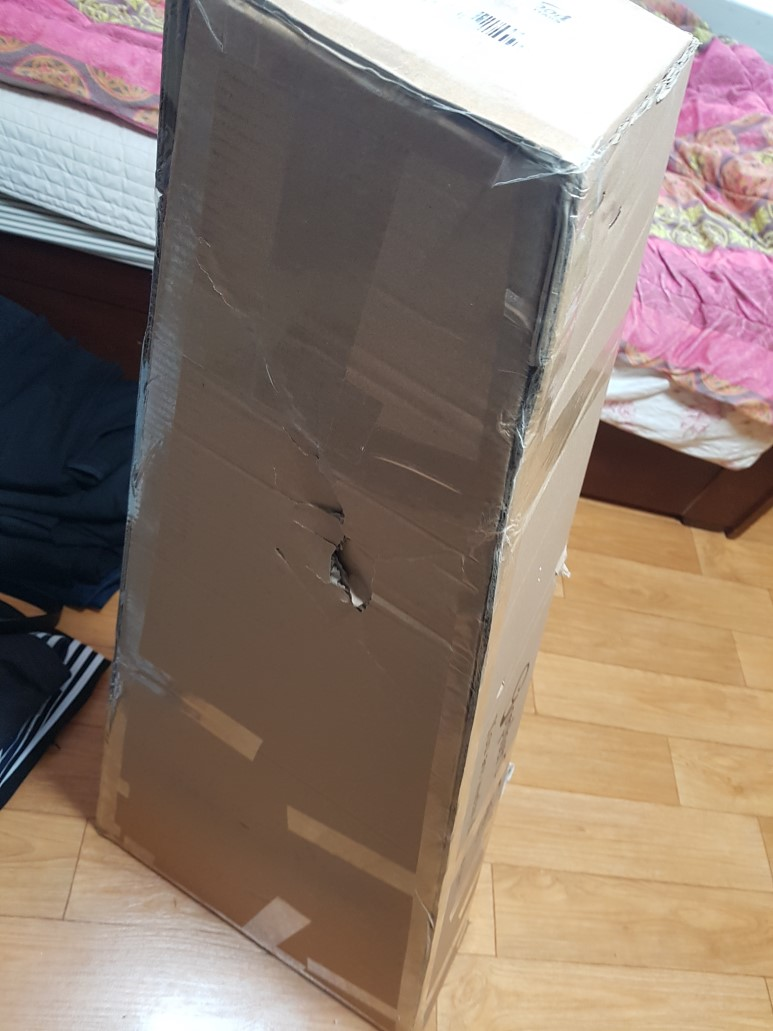damaged package: (312, 498, 372, 621)
